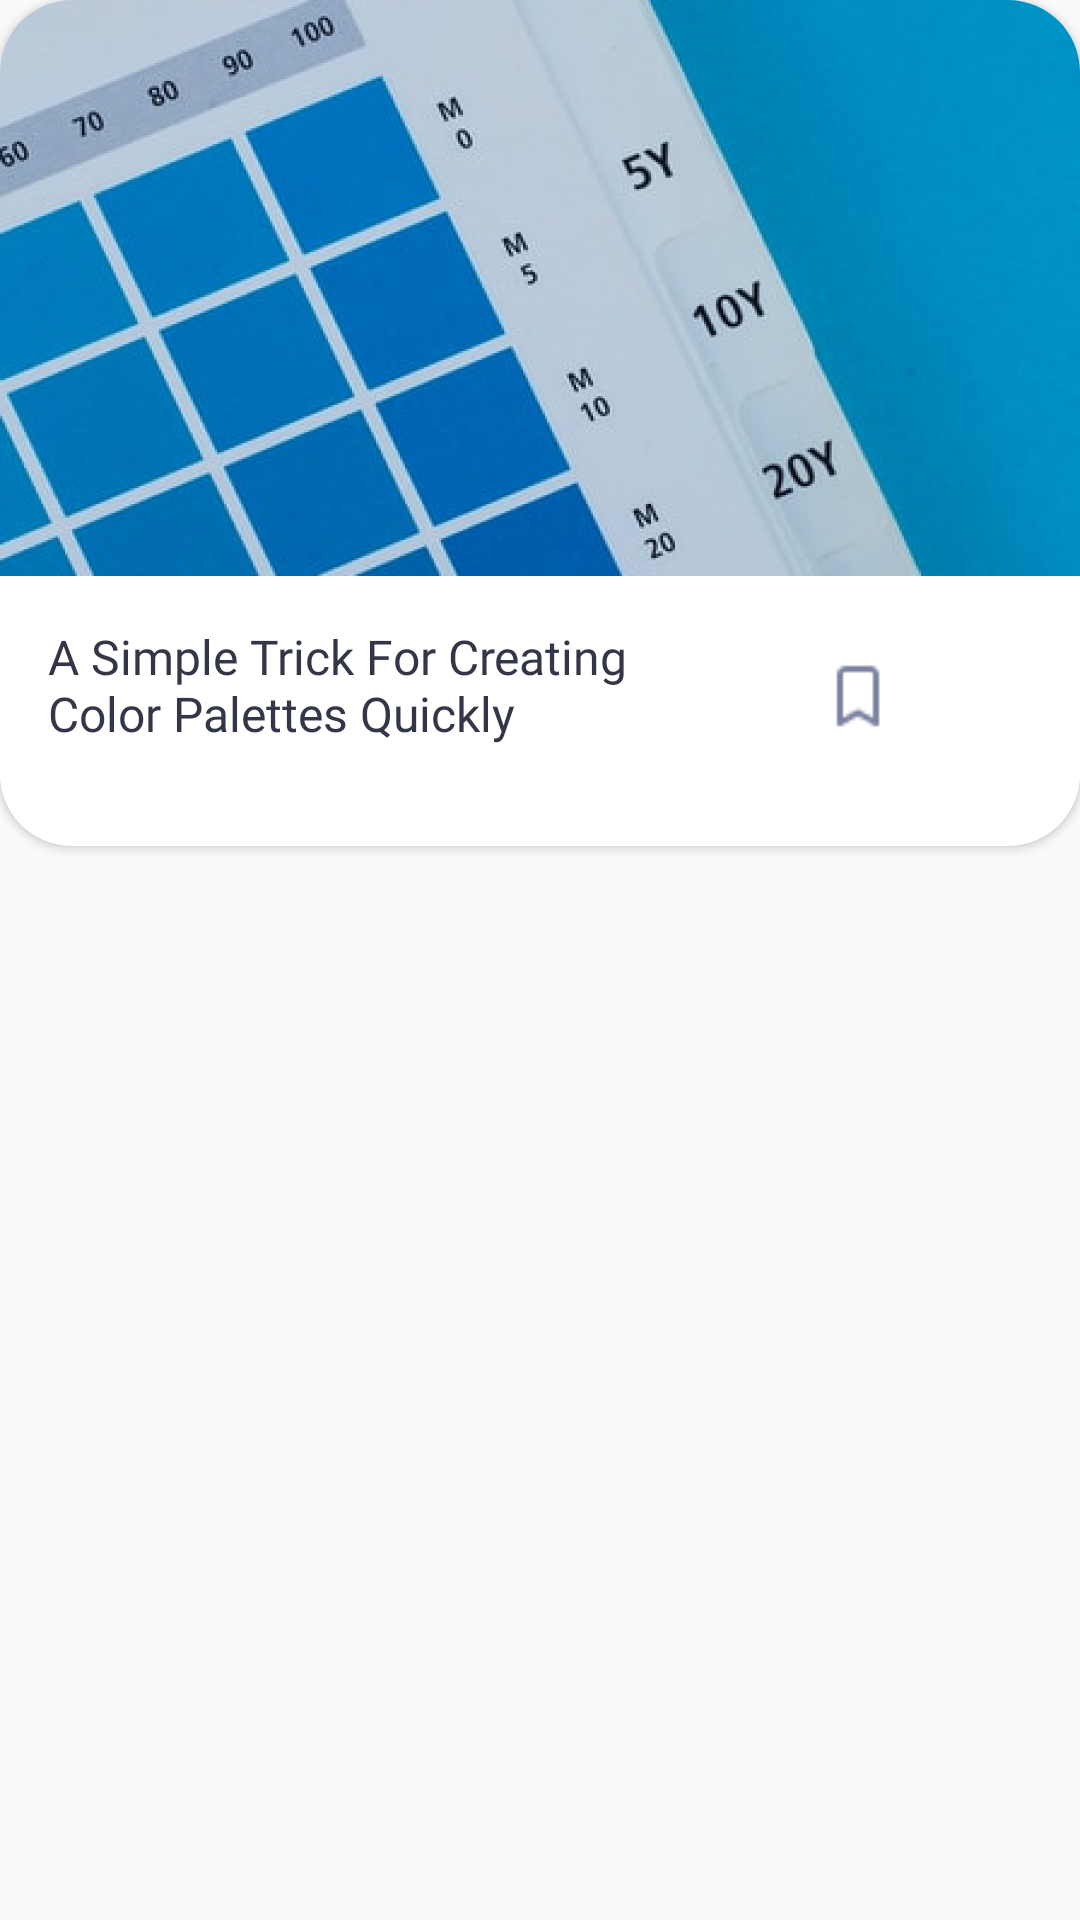

Named icons in this screenshot (1080px×1920px) and their centers, point (x, y):
bookmark: point (858, 696)
